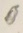microplastic: (4, 4, 21, 27)
